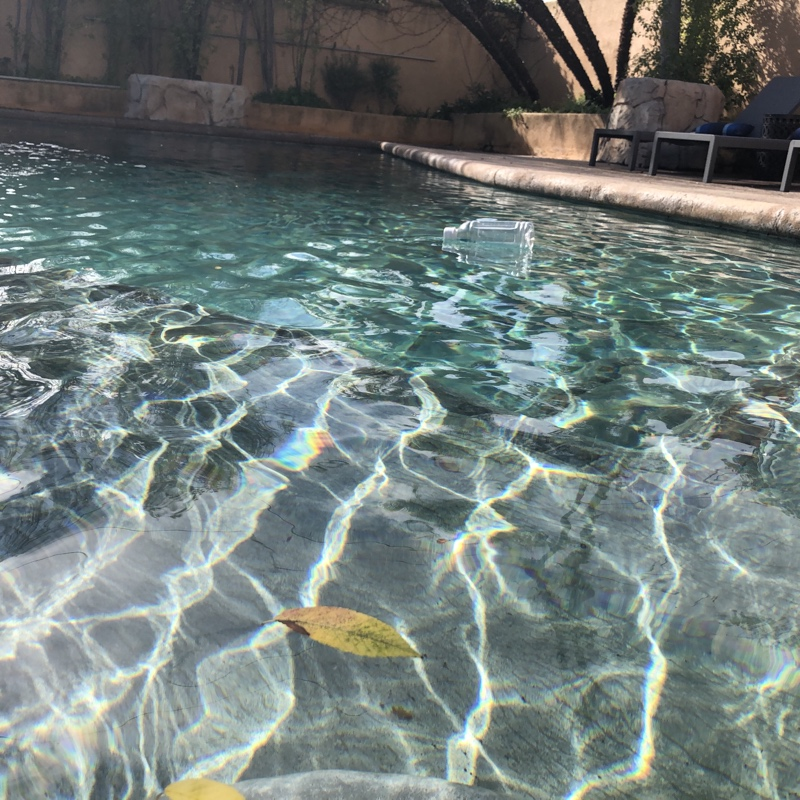Plastic Bottle: (438, 215, 538, 262)
